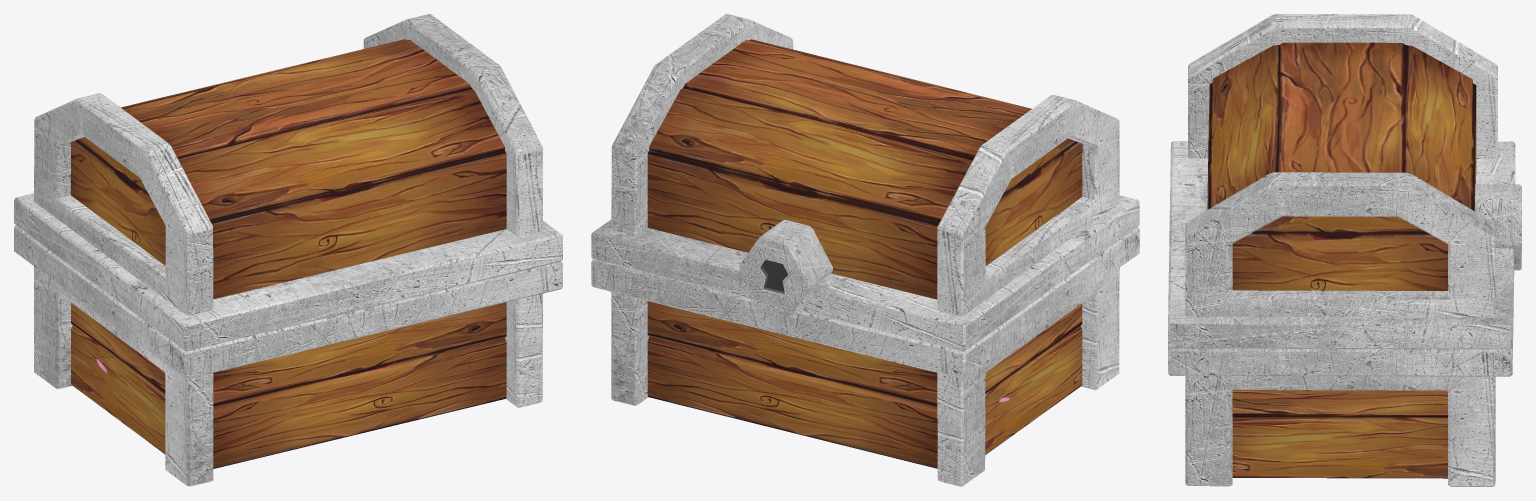
Rendered from Chest.glb.
The picture shows the model from 3 angles, left to right: view 1: azimuth 30°, elevation 25°; view 2: azimuth 150°, elevation 25°; view 3: azimuth 270°, elevation 25°; orthographic projection.
Parts seen in each view (by area): view 1: Lock_Hole_0; view 2: Lock_Hole_0; view 3: Lock_Hole_0.
Boxes of the visible parts, bbox=[...] form: Lock_Hole_0: bbox=[14, 14, 562, 486]; Lock_Hole_0: bbox=[591, 14, 1139, 486]; Lock_Hole_0: bbox=[1168, 14, 1521, 486].
Bounding box in the file's own units: 1.01 × 0.7989 × 0.8218.
Materials: 5 (3 with a texture image).
